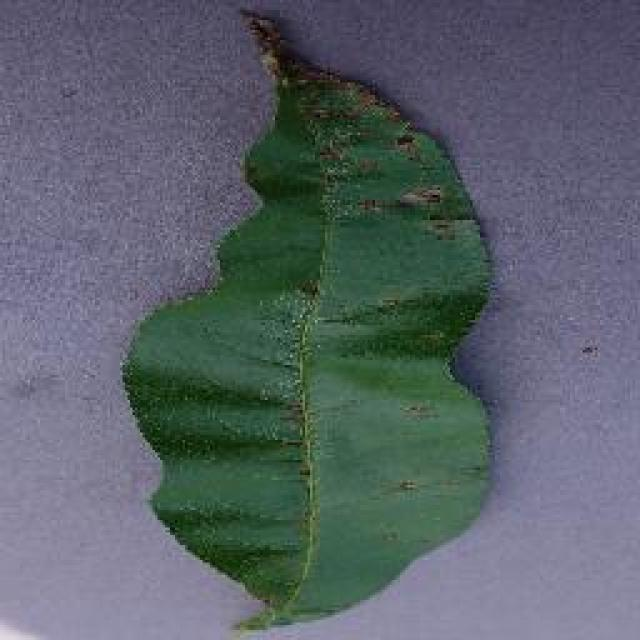Pea_Bacterial_spot: (247, 15, 478, 257)
